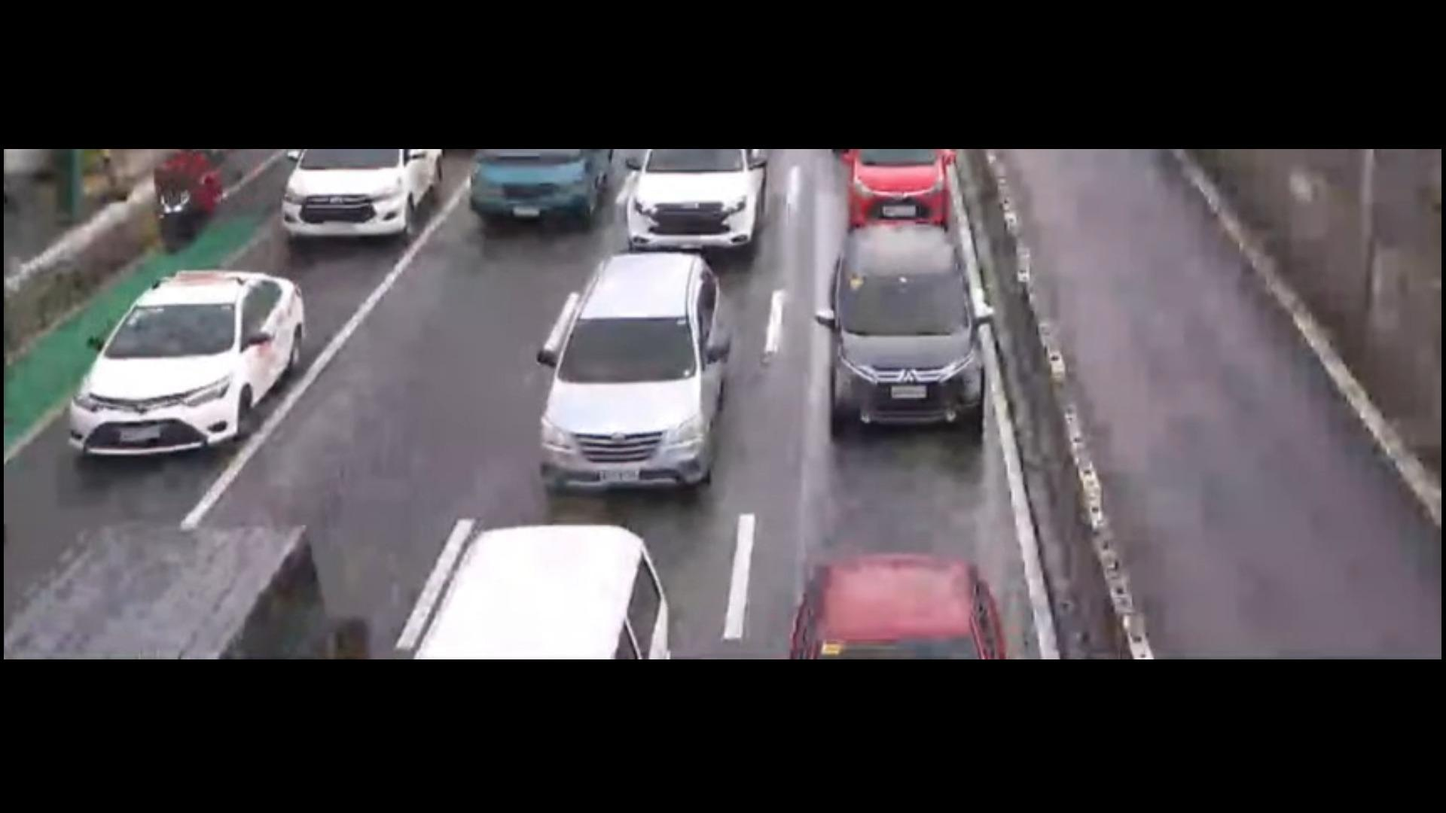Motorcycle: (157, 143, 227, 253)
SUV: (504, 254, 765, 534), (788, 198, 1008, 468)
Sedan: (41, 247, 315, 484)
